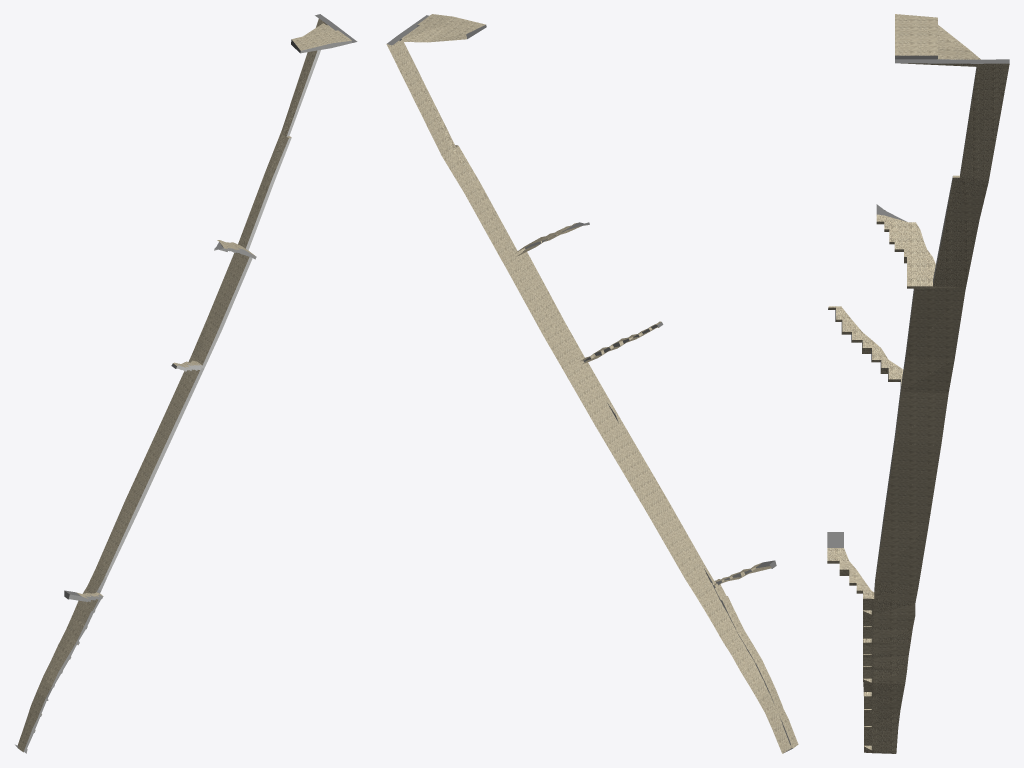
Rendered from Pikk_jalg_myyr_2-origo.obj.
The picture shows the model from 3 angles, left to right: view 1: azimuth 30°, elevation 25°; view 2: azimuth 150°, elevation 25°; view 3: azimuth 270°, elevation 25°; orthographic projection. The views are drawn at different scales.
Parts seen in each view (by area): view 1: Pikk_jalg_myyr_2; view 2: Pikk_jalg_myyr_2; view 3: Pikk_jalg_myyr_2.
Boxes of the visible parts, left/top/right/bottom form: Pikk_jalg_myyr_2: left=15, top=14, right=357, bottom=753; Pikk_jalg_myyr_2: left=386, top=14, right=798, bottom=753; Pikk_jalg_myyr_2: left=827, top=14, right=1009, bottom=753.
Bounding box in the file's own units: 75.31 × 130 × 22.73.
Materials: 3 (2 with a texture image).
